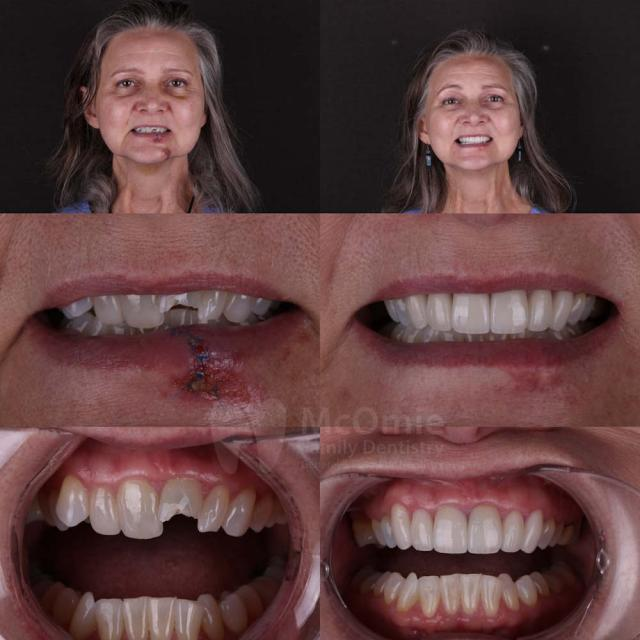Fractured Teeth: (158, 478, 203, 522), (157, 290, 200, 313)
